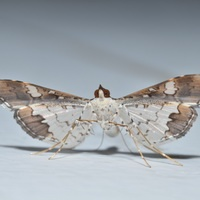insect: (0, 74, 199, 167)
